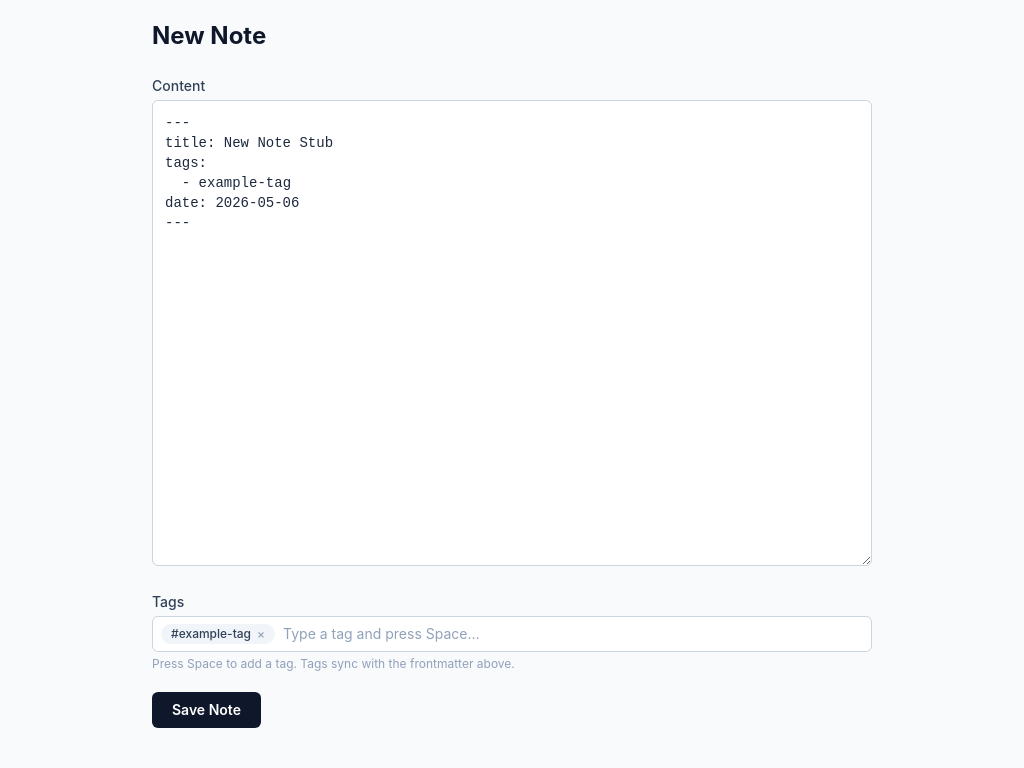
Test: NewNotePage component › shows error message when saveNote fails
(page scrolled)
Click the button "Save Note".
click(206, 710)  # box top-left (152, 692), bottom-right (261, 728)
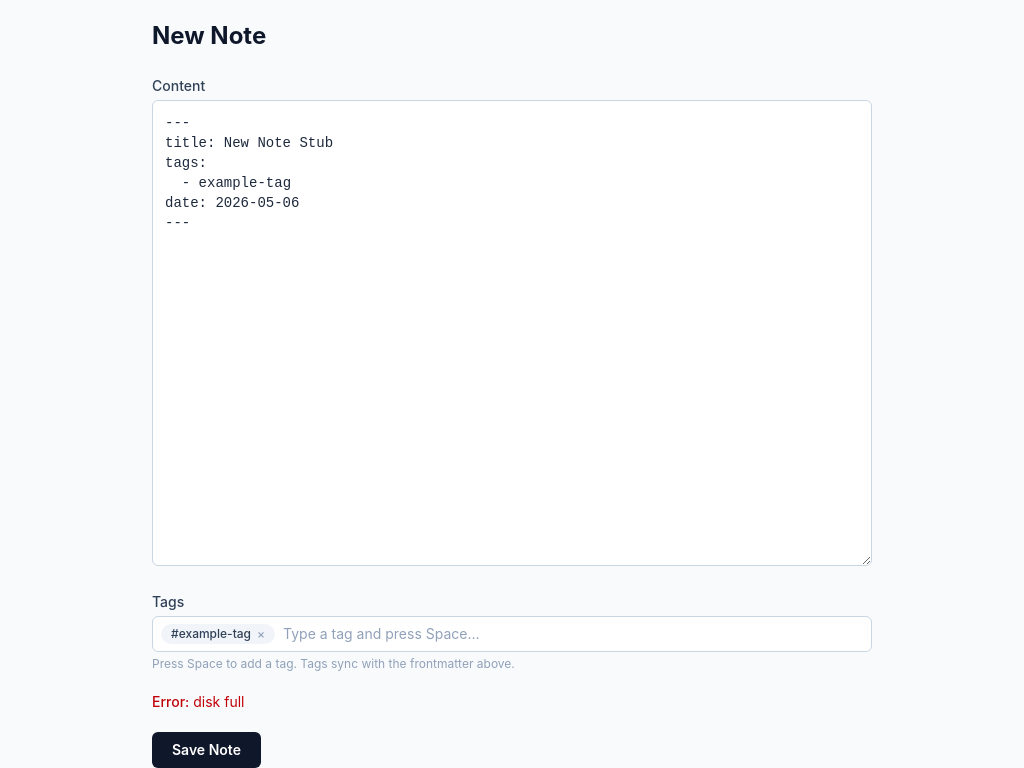
Check: the text "Error: disk full" is shown, box top-left (152, 693), bottom-right (244, 710)
